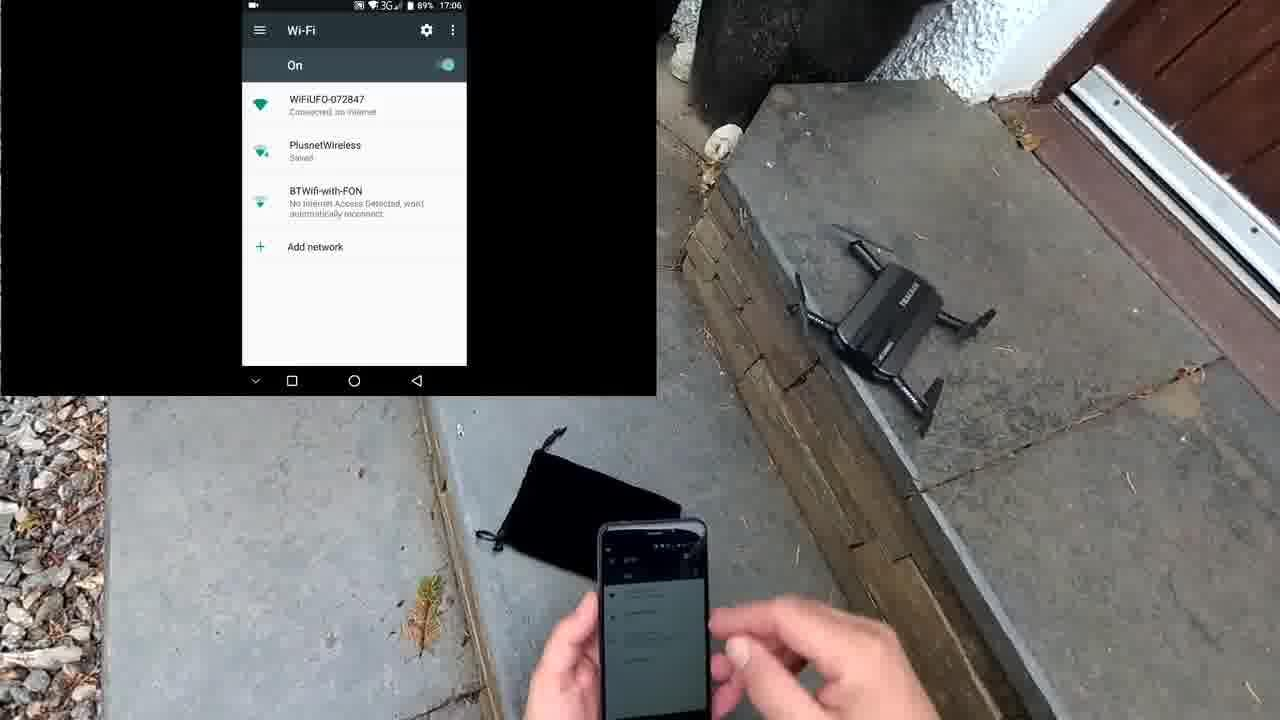drone: (776, 205, 1002, 447)
